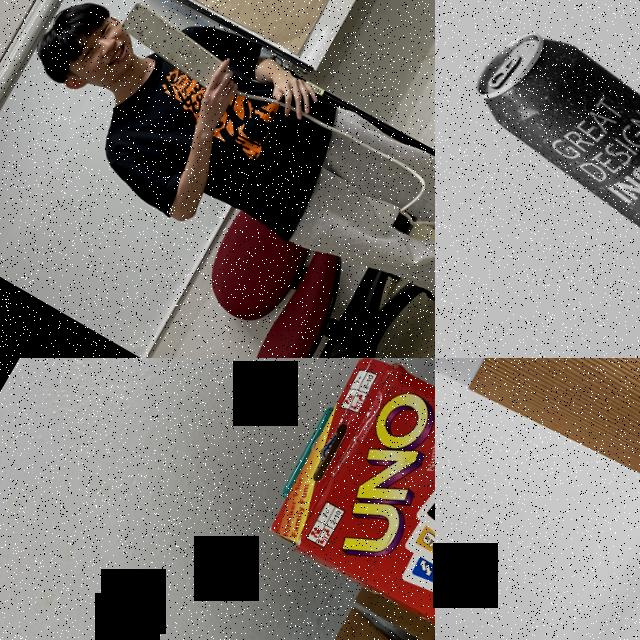can: (435, 7, 640, 351)
cup: (435, 358, 640, 535)
